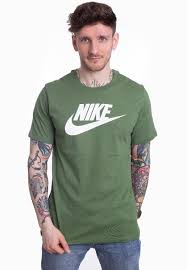nike: (55, 103, 132, 150)
